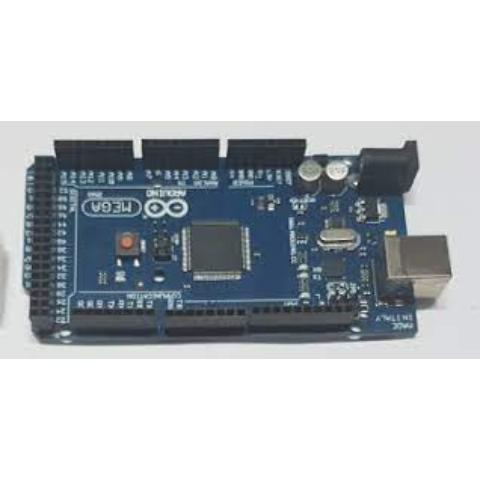Arduino-Mega: (8, 128, 462, 348)
